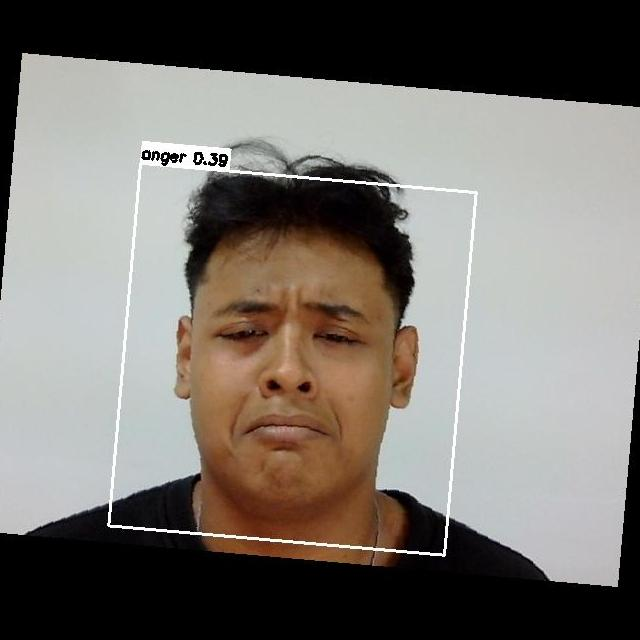Sad: (193, 293, 396, 494)
